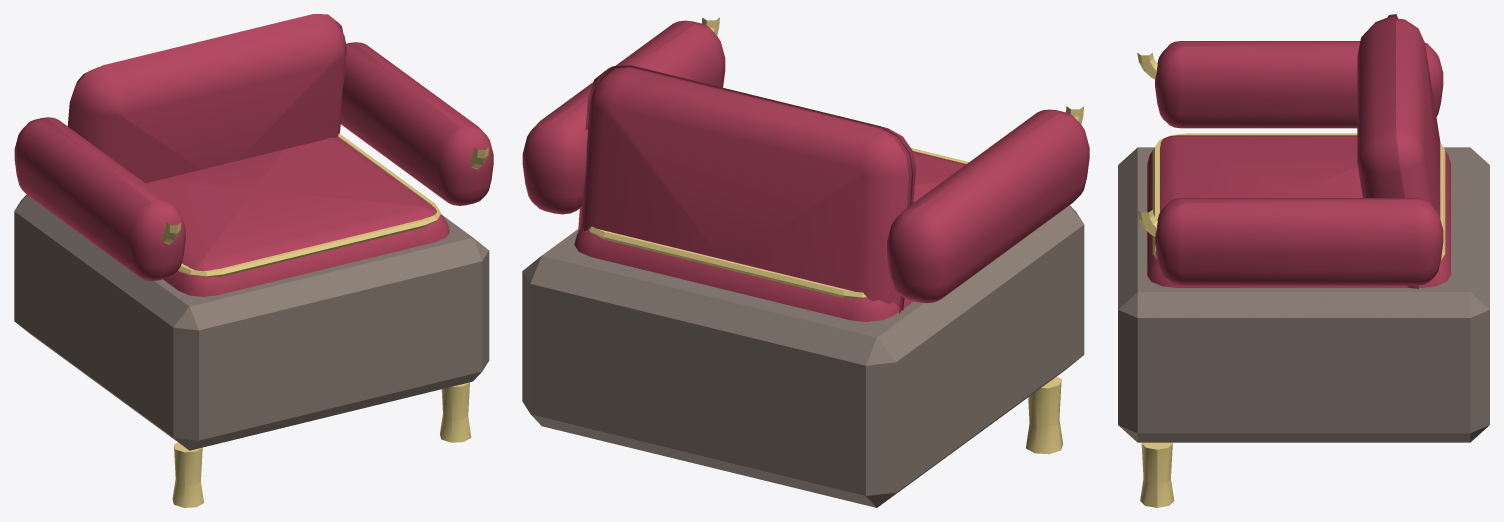
Rendered from theatre-stage-and-backstage-set-dressing-armchair-8b3b7993__35890.glb.
The picture shows the model from 3 angles, left to right: view 1: azimuth 30°, elevation 25°; view 2: azimuth 150°, elevation 25°; view 3: azimuth 270°, elevation 25°; orthographic projection. The views are drawn at different scales.
Visible parts, largest first — view 1: set-dressing-armchair; view 2: set-dressing-armchair; view 3: set-dressing-armchair.
Boxes of the visible parts, x1,y1,x2,y2 form: set-dressing-armchair: [14, 14, 493, 507]; set-dressing-armchair: [522, 17, 1089, 507]; set-dressing-armchair: [1118, 14, 1489, 507].
Bounding box in the file's own units: 0.889 × 0.815 × 0.76.
